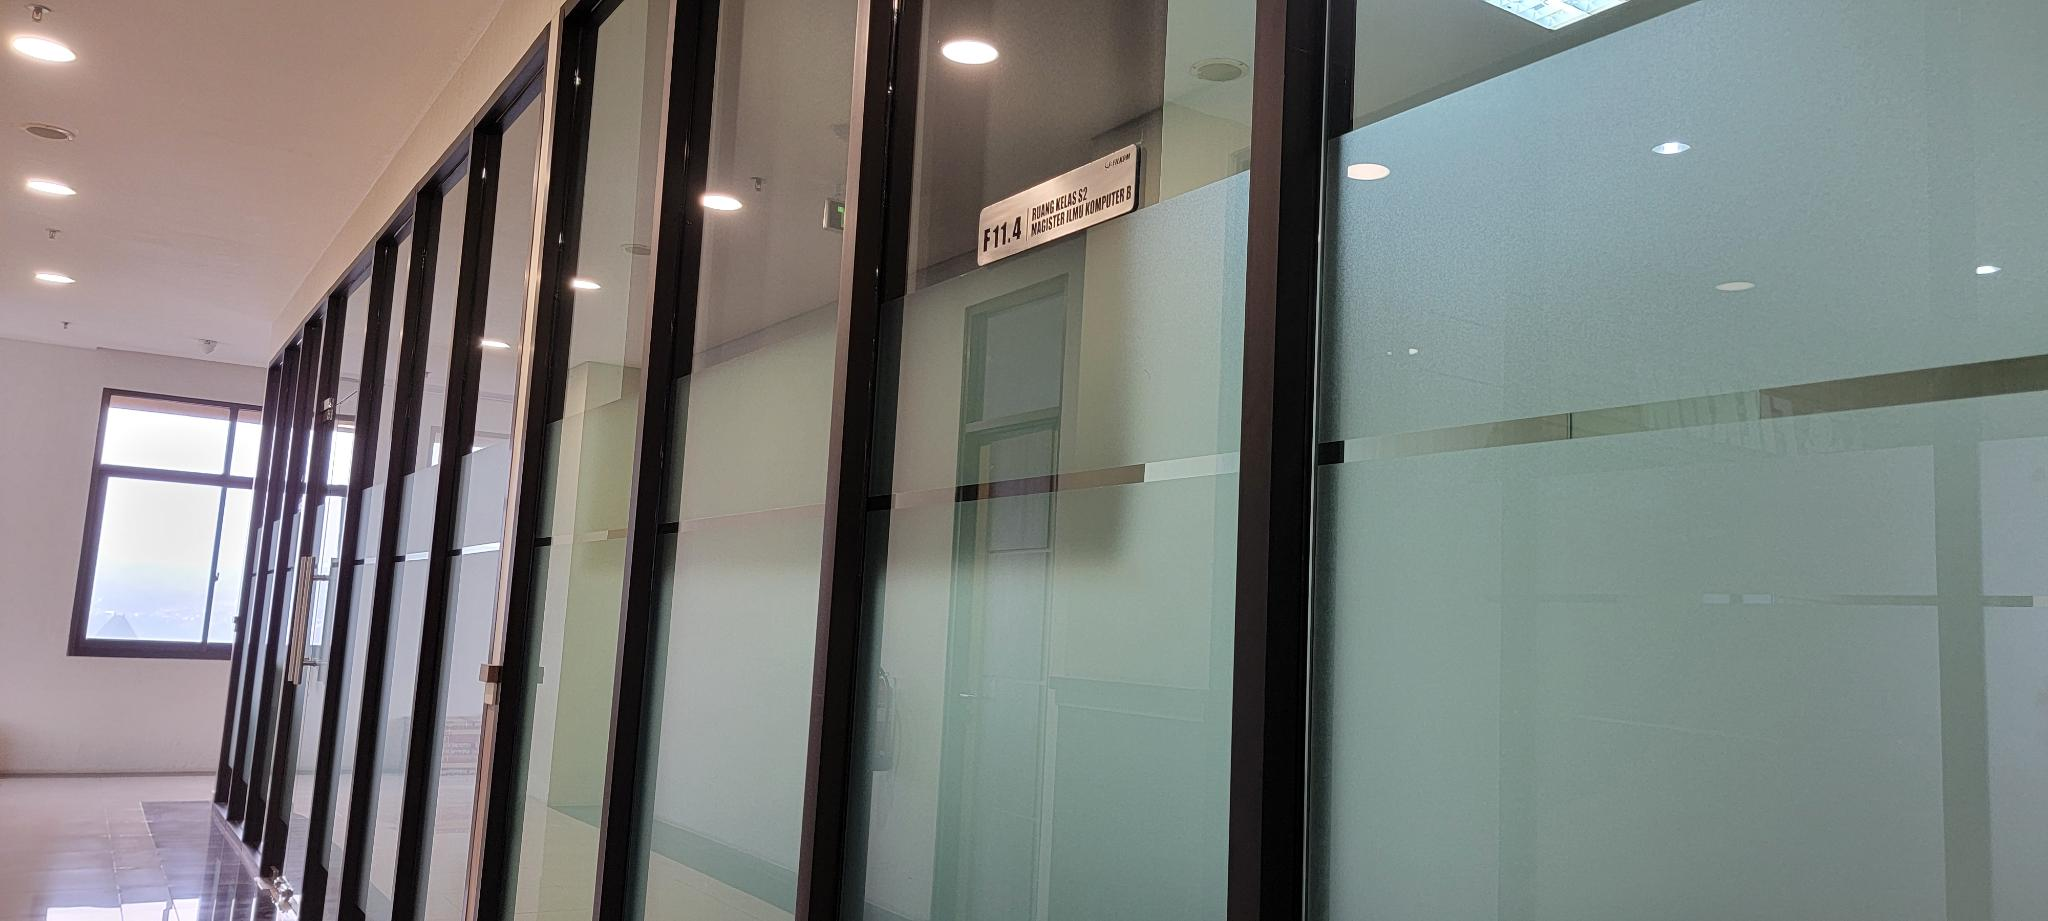plate: (974, 144, 1143, 272)
